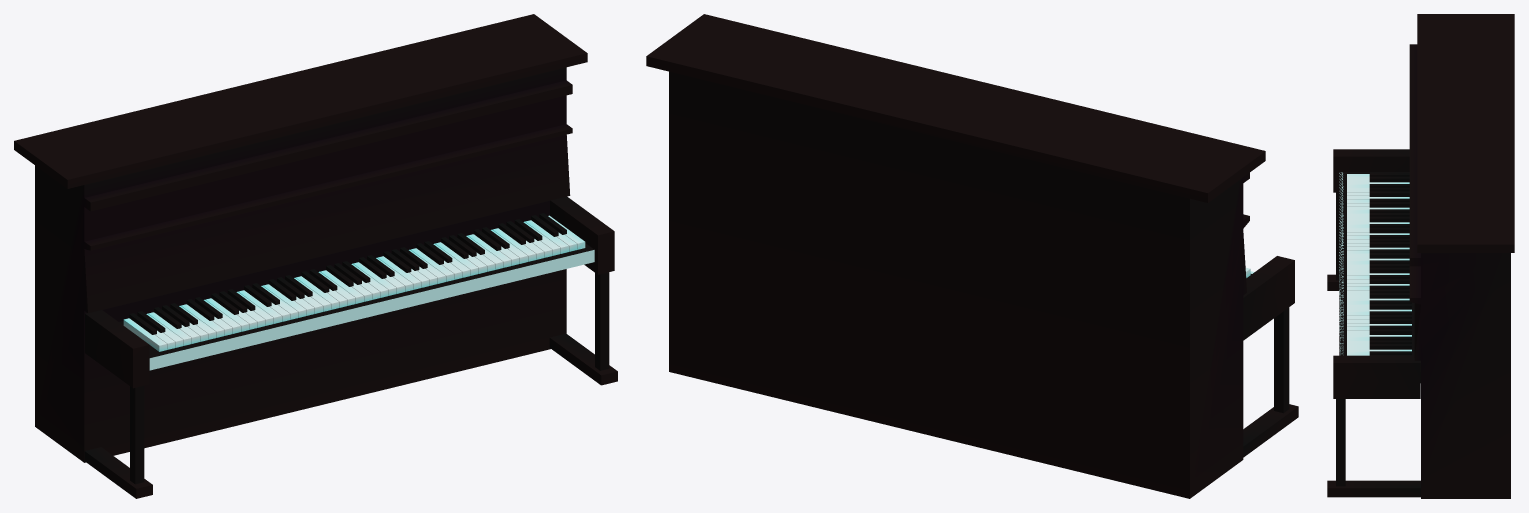
3 renders of one model, left to right at view 1: azimuth 30°, elevation 25°; view 2: azimuth 150°, elevation 25°; view 3: azimuth 270°, elevation 25°, orthographic. The views are drawn at different scales.
Parts seen in each view (by area): view 1: cabinet, cap, front_lip, cheek, cheek.003, bed, support.003, support, foot.003, foot; view 2: cabinet, cap, cheek, support, foot; view 3: cabinet, cap, cheek.003, cheek, bed, foot.003, support.003, front_lip, support, ebony.001, ebony.009, ebony.011 (+15 smaller).
Part boxes in pixels (x1=…): cabinet: x1=35, y1=67, x2=572, y2=462; cap: x1=14, y1=14, x2=587, y2=188; front_lip: x1=149, y1=250, x2=594, y2=370; cheek: x1=85, y1=310, x2=149, y2=388; cheek.003: x1=550, y1=196, x2=614, y2=274; bed: x1=119, y1=243, x2=594, y2=357; support.003: x1=595, y1=272, x2=609, y2=370; support: x1=130, y1=385, x2=144, y2=484; foot.003: x1=549, y1=333, x2=617, y2=385; foot: x1=84, y1=447, x2=152, y2=498; cabinet: x1=669, y1=71, x2=1249, y2=498; cap: x1=646, y1=14, x2=1265, y2=202; cheek: x1=1243, y1=256, x2=1294, y2=340; support: x1=1274, y1=307, x2=1289, y2=413; foot: x1=1243, y1=404, x2=1298, y2=457; cabinet: x1=1409, y1=44, x2=1510, y2=498; cap: x1=1417, y1=14, x2=1514, y2=252; cheek.003: x1=1333, y1=355, x2=1420, y2=398; cheek: x1=1333, y1=149, x2=1409, y2=192; bed: x1=1339, y1=172, x2=1420, y2=382; foot.003: x1=1327, y1=480, x2=1420, y2=497; support.003: x1=1336, y1=399, x2=1345, y2=486; front_lip: x1=1339, y1=172, x2=1343, y2=354; support: x1=1336, y1=192, x2=1339, y2=280; ebony.001: x1=1369, y1=176, x2=1409, y2=182; ebony.009: x1=1369, y1=216, x2=1409, y2=222; ebony.011: x1=1369, y1=227, x2=1409, y2=233.
Size of the model in its own units: 1.5 by 0.7968 by 0.5145.
